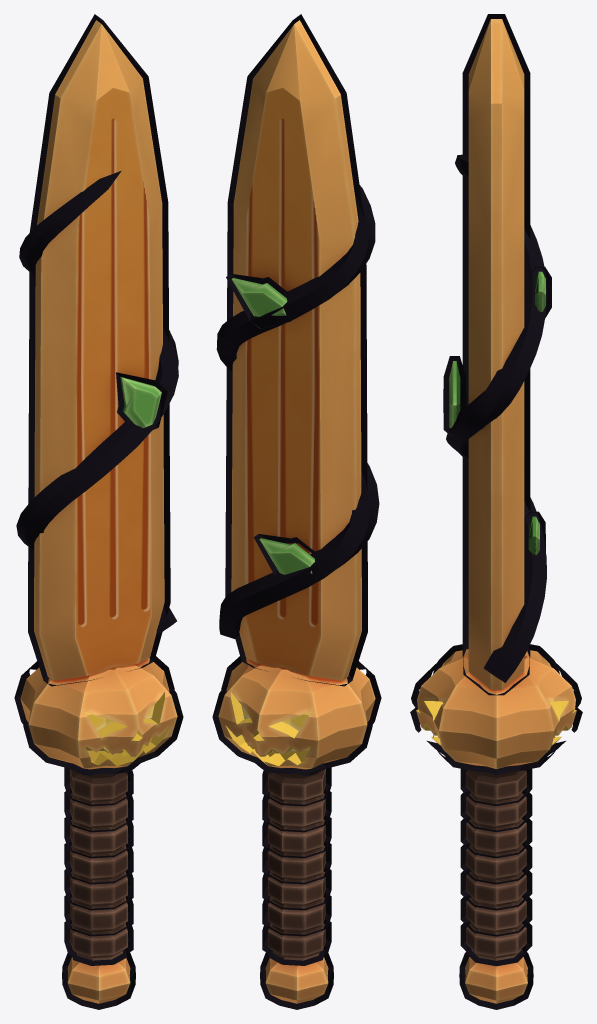
Rendered from PumpkinSword.fbx.
3 views of the same model, side by side, from view 1: azimuth 30°, elevation 25°; view 2: azimuth 150°, elevation 25°; view 3: azimuth 270°, elevation 25° (orthographic).
Visible parts, largest first — view 1: PumpkinSword, PumpkinSwordOutline, PumpkinSwordPumpkinGlow; view 2: PumpkinSword, PumpkinSwordOutline, PumpkinSwordPumpkinGlow; view 3: PumpkinSword, PumpkinSwordOutline, PumpkinSwordPumpkinGlow.
Part boxes in pixels (x1,y1,x2,y2): PumpkinSword: (20,20,177,1003); PumpkinSwordOutline: (14,14,183,1009); PumpkinSwordPumpkinGlow: (84,692,170,765); PumpkinSword: (218,20,375,1003); PumpkinSwordOutline: (212,14,381,1009); PumpkinSwordPumpkinGlow: (225,692,311,765); PumpkinSword: (416,19,576,1003); PumpkinSwordOutline: (410,14,582,1009); PumpkinSwordPumpkinGlow: (416,663,576,744).
Size of the model in its own units: 63.52 by 389 by 61.69.
Materials: 2 (1 with a texture image).
